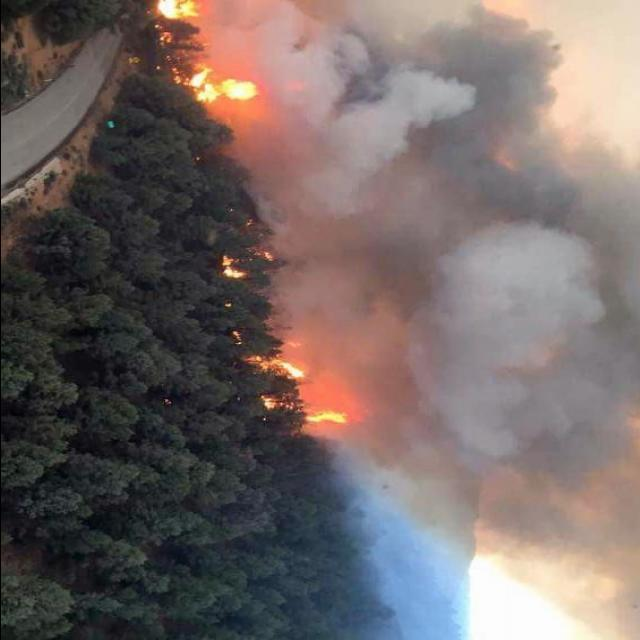Fire: (176, 61, 254, 111), (260, 396, 352, 431), (145, 2, 207, 33), (248, 358, 301, 382), (216, 255, 242, 282)
